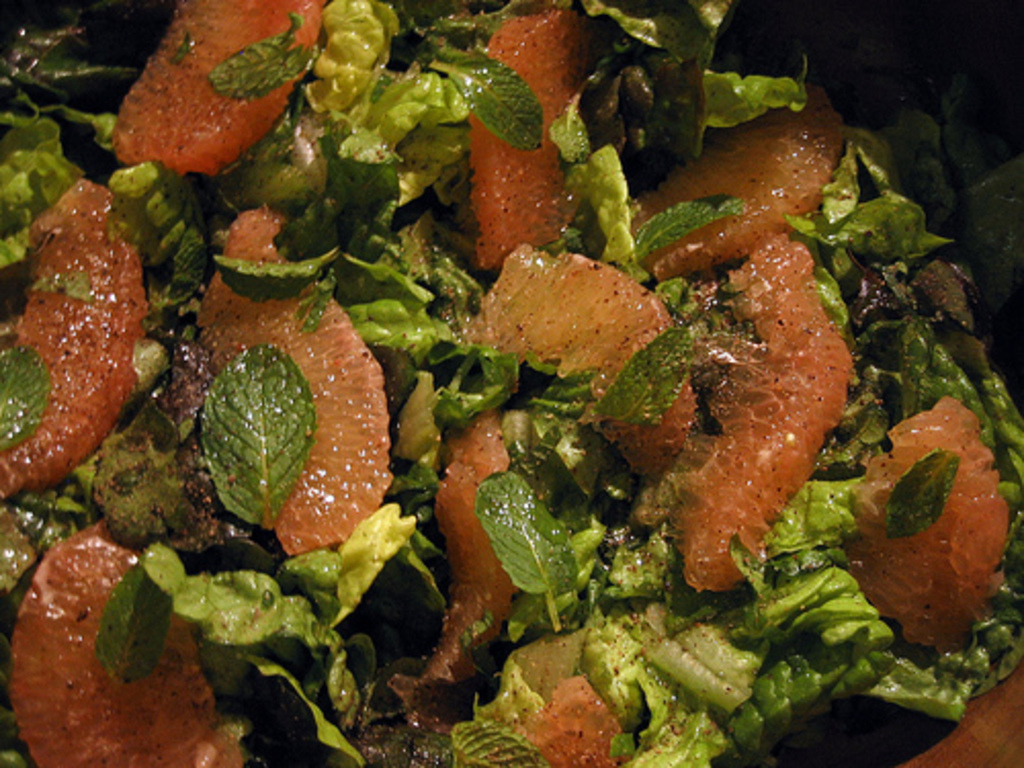salad: (0, 0, 1022, 766)
